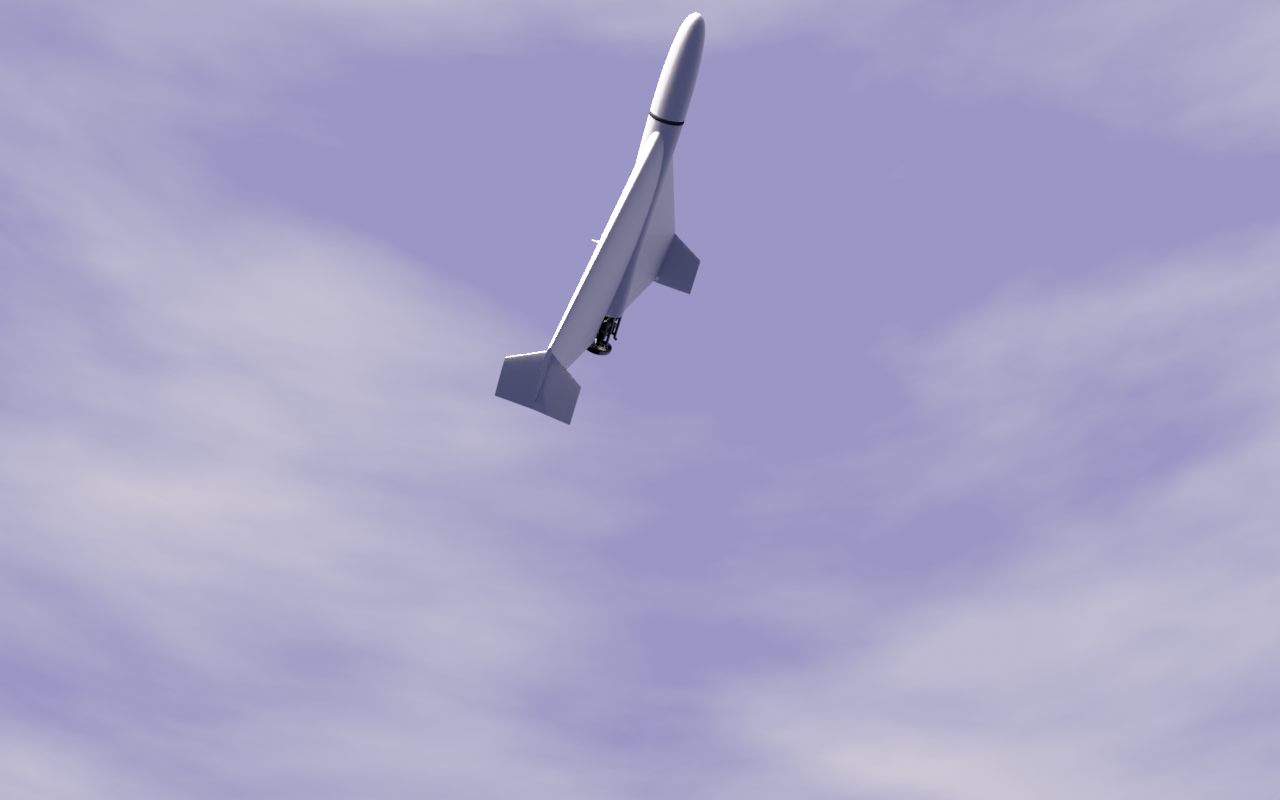shahed: (495, 13, 708, 427)
